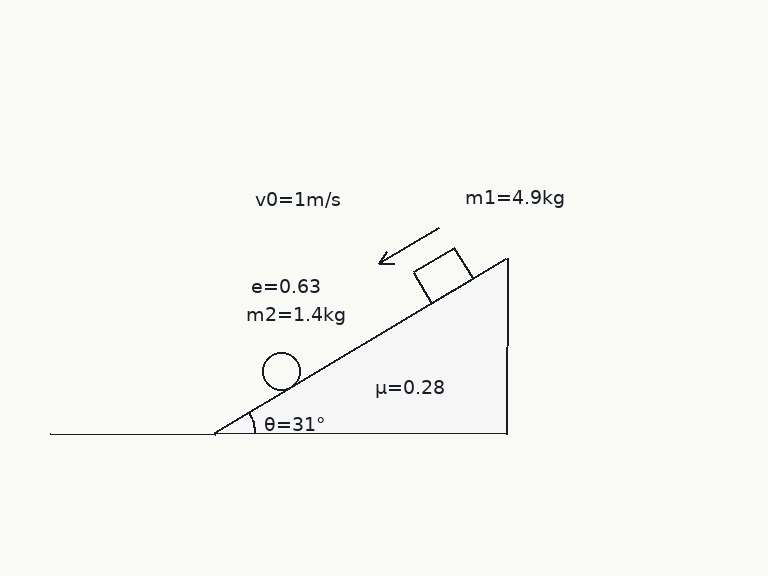ball: (260, 350, 302, 392)
block: (411, 245, 475, 305)
ramp: (213, 256, 508, 435)
